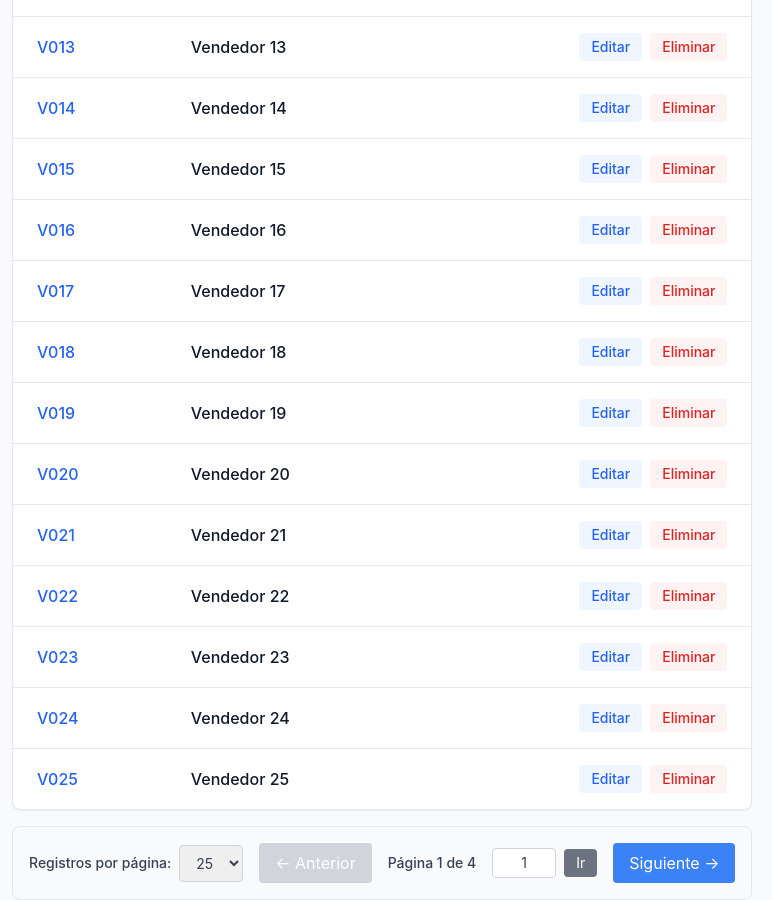
SellersModule Unit Tests › Pagination › should navigate to previous page
(page scrolled)
What coordinates should you click on to do the following:
click the button "Siguiente →"
I would click on:
 (674, 863)
Its box is [613,843,736,883].
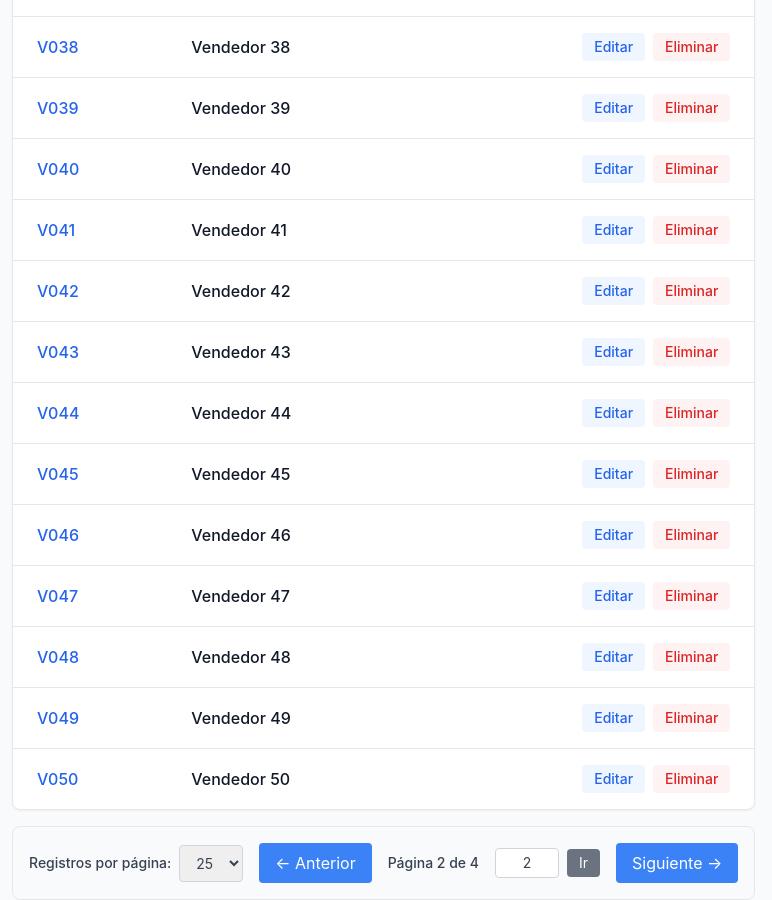
What coordinates should you click on to do the following:
click the button "← Anterior"
I would click on:
 (315, 863)
Its box is [259,843,372,883].
(page scrolled)
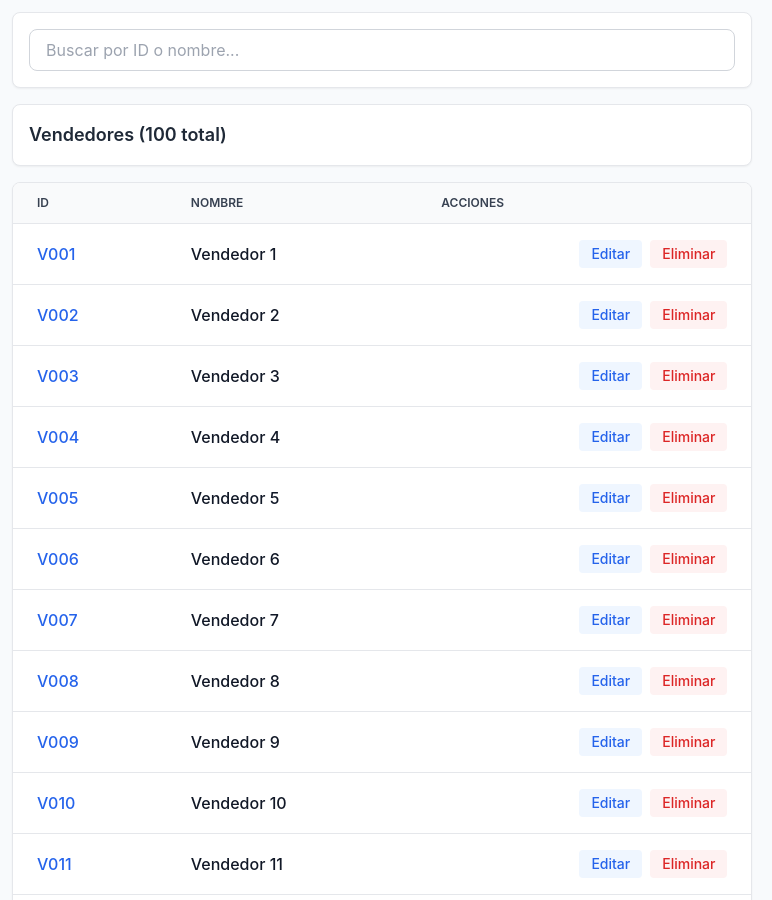
Check: the text "Vendedor 1" is shown, box [167,224,417,284]
